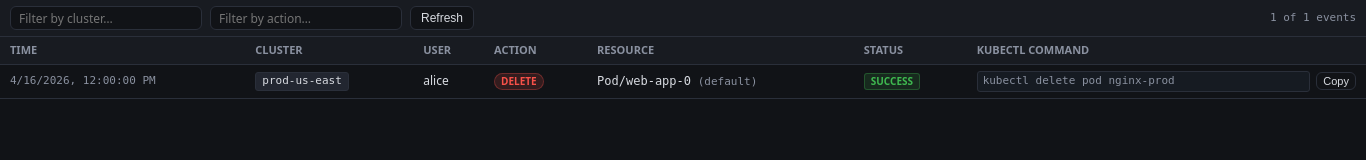
<AuditLogViewer /> › copies the kubectl command to clipboard and indicates copied status
Expected: the text "kubectl delete pod nginx-prod" is shown, 977,71 -> 1310,92
Click the button with test id "copy-kubectl".
click(1336, 81)  # box 1316,72 -> 1356,90
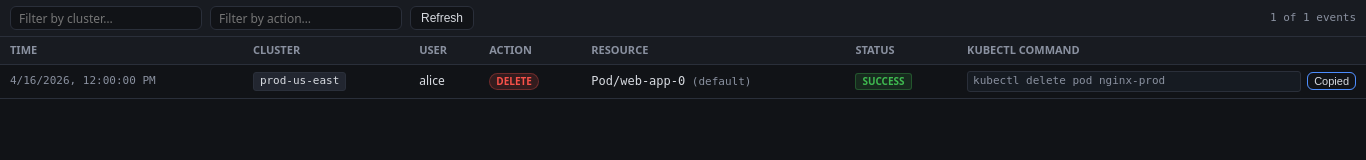
Expected: the button with test id "copy-kubectl" reads "Copied", 1307,72 -> 1356,90
